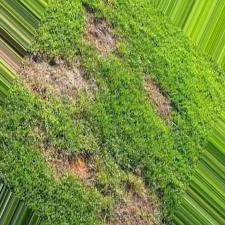patch: (84, 164, 153, 223), (35, 61, 91, 89), (90, 18, 113, 50), (146, 81, 162, 111)
